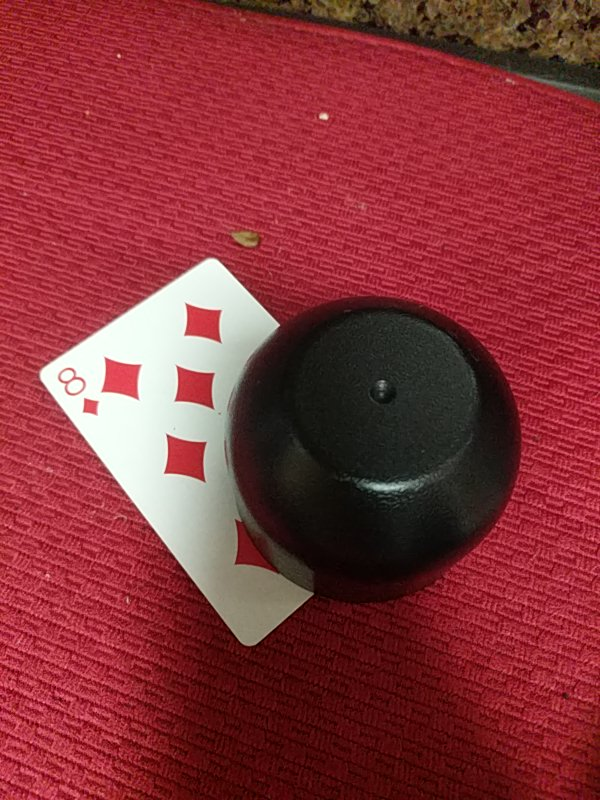Diamonds: (36, 255, 316, 645)
